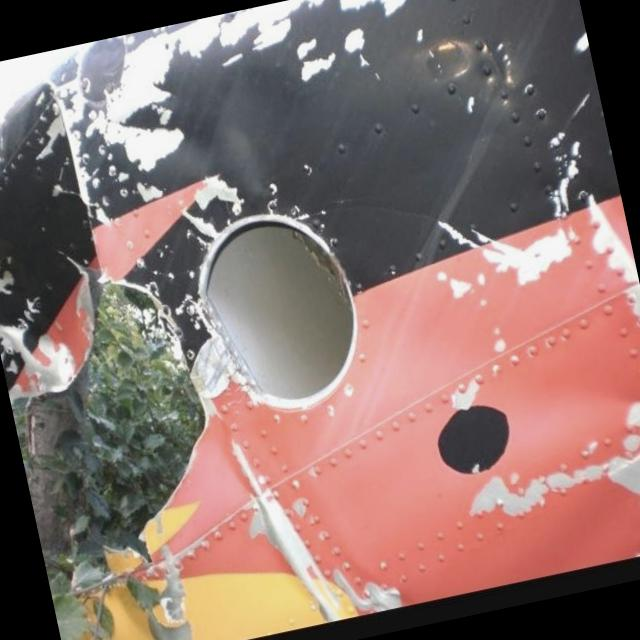dent: (204, 55, 322, 208), (492, 350, 640, 456), (162, 116, 216, 180)
